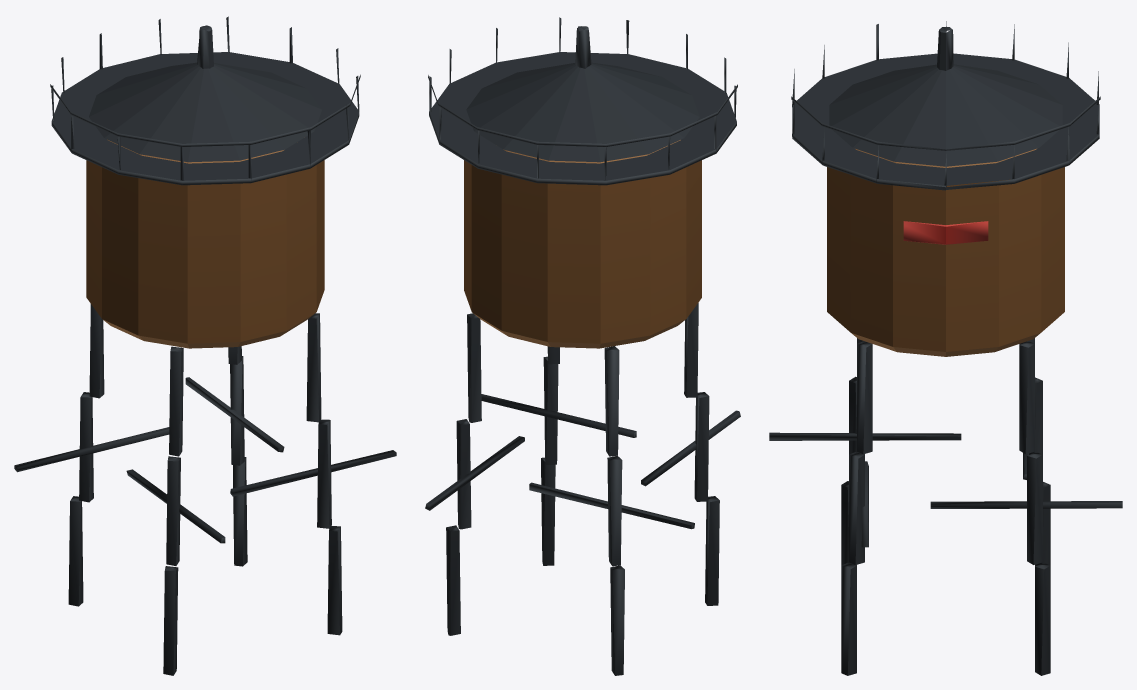
Rendered from water-tower-v1.lod2.glb.
3 renders of one model, left to right at view 1: azimuth 30°, elevation 25°; view 2: azimuth 150°, elevation 25°; view 3: azimuth 270°, elevation 25°, orthographic. The views are drawn at different scales.
Parts seen in each view (by area): view 1: water-tower-v1.lod2; view 2: water-tower-v1.lod2; view 3: water-tower-v1.lod2.
Part boxes in pixels (x1,y1,x2,y2): water-tower-v1.lod2: [14, 16, 396, 675]; water-tower-v1.lod2: [425, 17, 740, 675]; water-tower-v1.lod2: [769, 21, 1122, 675].
Bounding box in the file's own units: 6.95 × 13.09 × 6.95.
